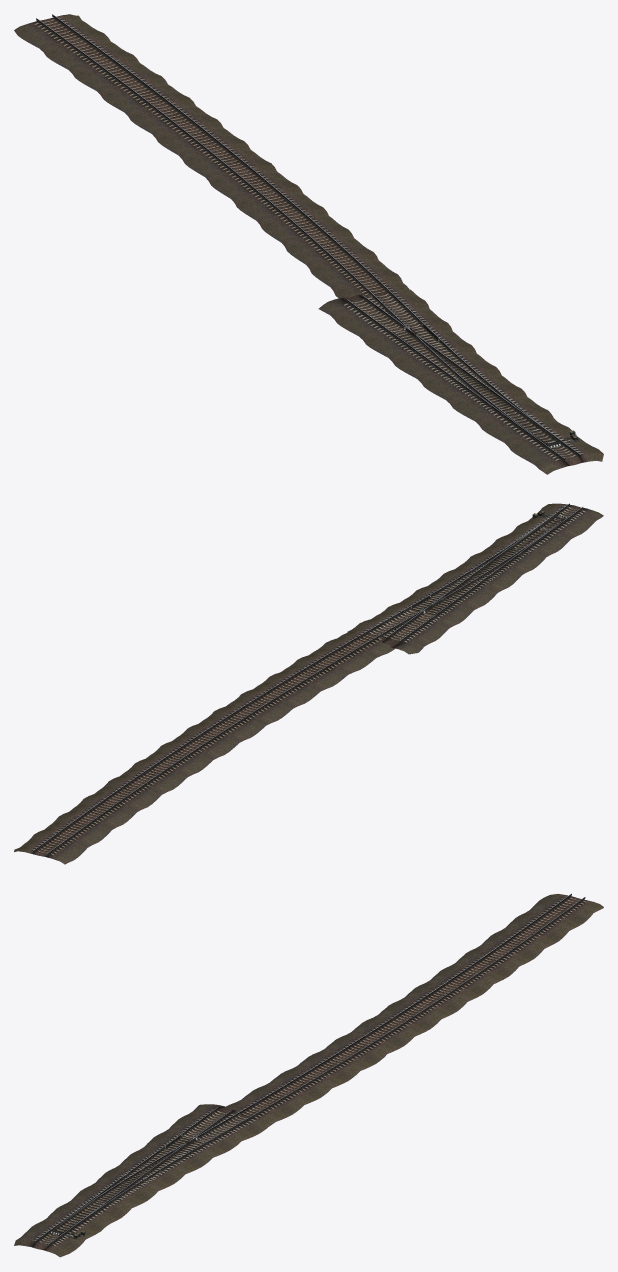
File: 1track1+2_5.5_TSM.gltf
3 renders of one model, top to bottom at view 1: azimuth 30°, elevation 25°; view 2: azimuth 150°, elevation 25°; view 3: azimuth 330°, elevation 25°, orthographic. The views are drawn at different scales.
Bounding box in the file's own units: 12.2 × 0.9462 × 101.
Materials: 1 (1 with a texture image).
